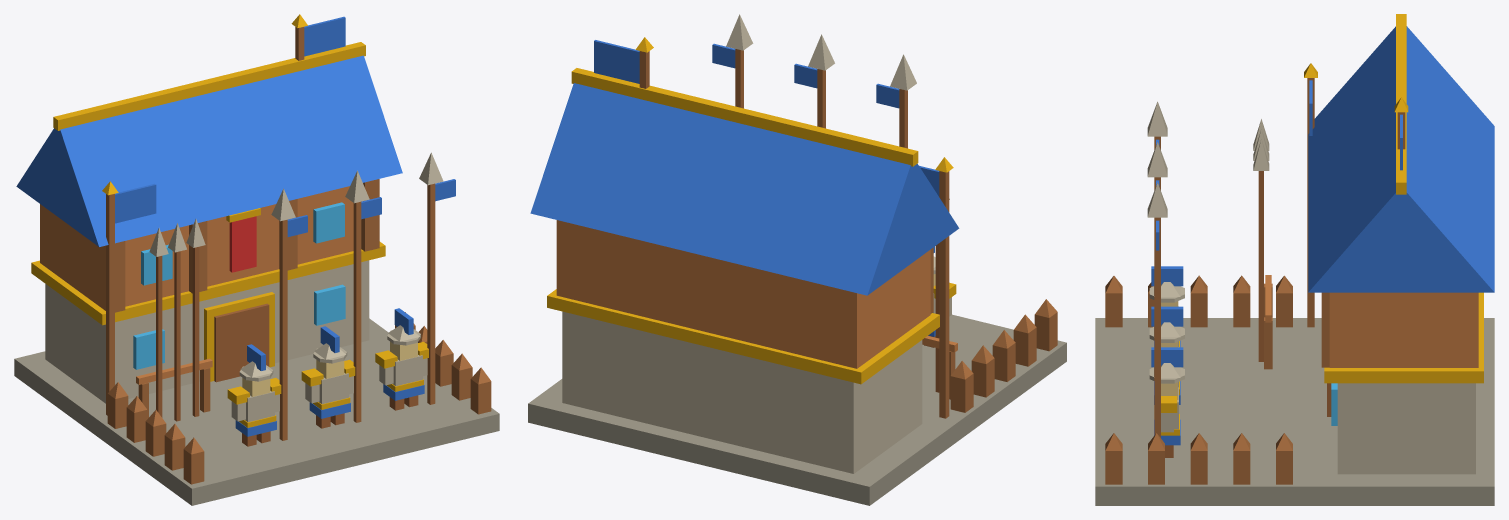
The model's file is barracks_t3_v1.glb.
The picture shows the model from 3 angles, left to right: view 1: azimuth 30°, elevation 25°; view 2: azimuth 150°, elevation 25°; view 3: azimuth 270°, elevation 25°; orthographic projection. The views are drawn at different scales.
Parts seen in each view (by area): view 1: barracks_t3_v1; view 2: barracks_t3_v1; view 3: barracks_t3_v1.
Boxes of the visible parts, left/top/right/bottom form: barracks_t3_v1: left=14, top=14, right=499, bottom=505; barracks_t3_v1: left=528, top=14, right=1066, bottom=505; barracks_t3_v1: left=1095, top=14, right=1494, bottom=505.
Bounding box in the file's own units: 0.75 × 0.775 × 0.75.
1 material, 1 textured.
